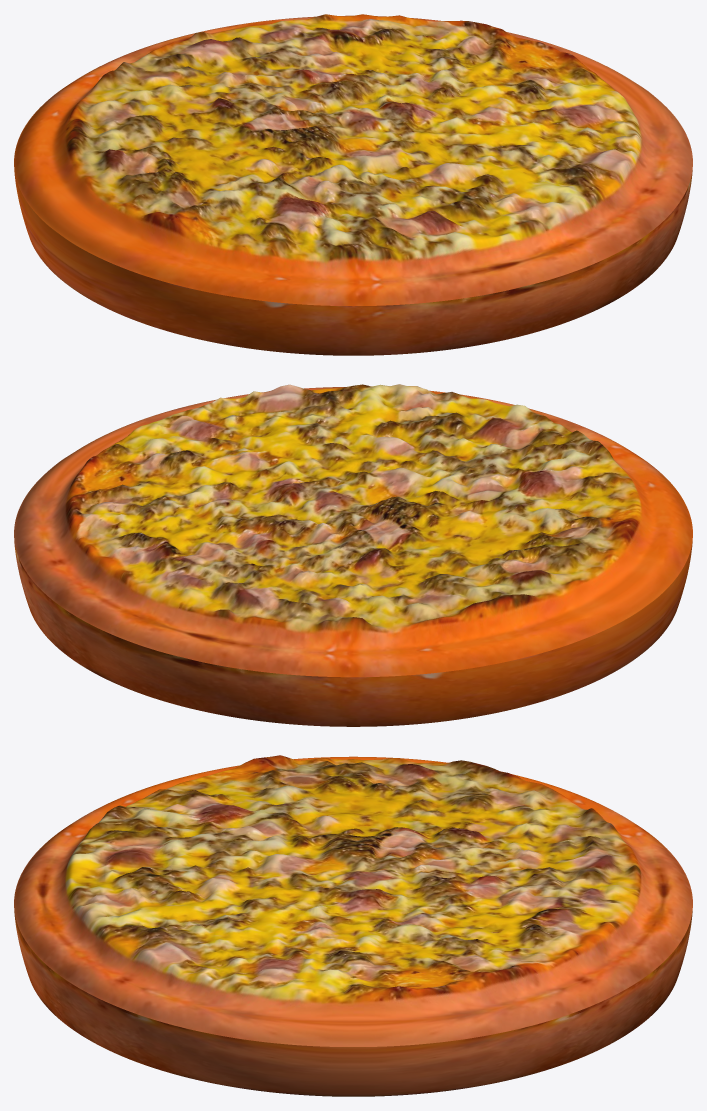
Rendered from bruto-tocino.glb.
3 views of the same model, one above another, from view 1: azimuth 30°, elevation 25°; view 2: azimuth 150°, elevation 25°; view 3: azimuth 270°, elevation 25° (orthographic).
Parts seen in each view (by area): view 1: Bruto Tocino; view 2: Bruto Tocino; view 3: Bruto Tocino.
Boxes of the visible parts, box(x1,y1,x2,y2) form: Bruto Tocino: box(14, 14, 692, 355); Bruto Tocino: box(14, 384, 692, 726); Bruto Tocino: box(14, 755, 692, 1096).
Bounding box in the file's own units: 0.36 × 0.0548 × 0.36.
Materials: 2 (2 with a texture image).
